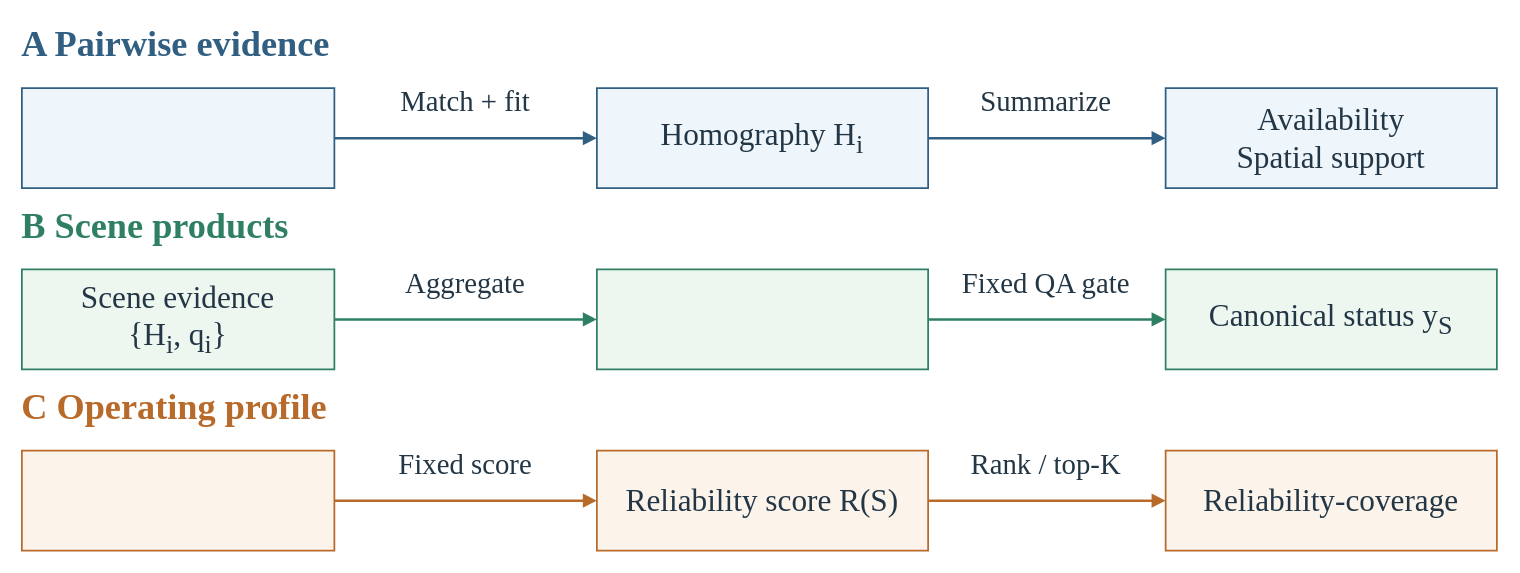
Some shapes in this 1520 by 573 pixel diagram are drawn without their labels. Here are the shapes that lost their labels. From the top down, the centre of each, then its label:
point (177, 137): RGB-infrared pair (I i R , I i T )
point (761, 319): Scene consensus H̄ S
point (177, 500): Scene diagnostics
